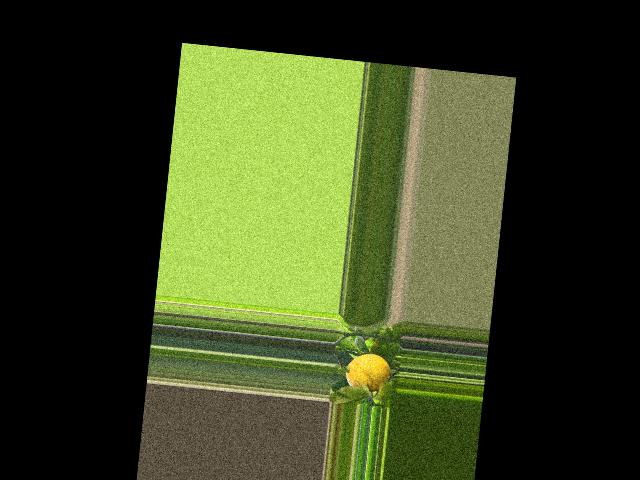lemon: (340, 348, 391, 398)
